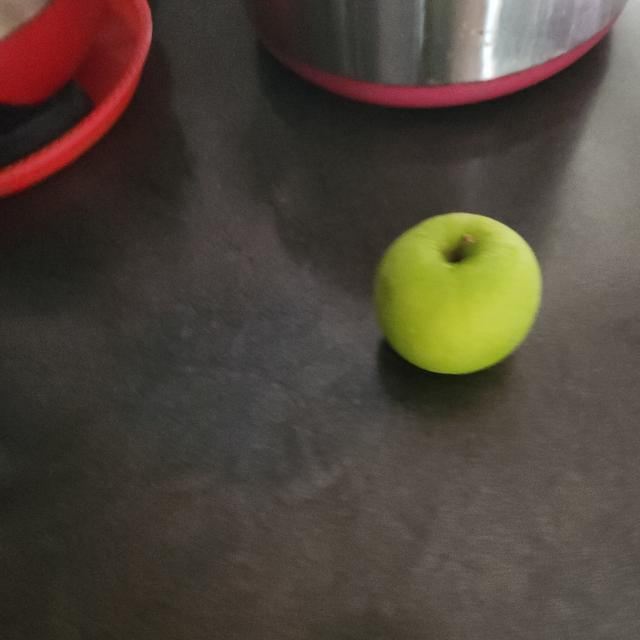apple: (370, 210, 546, 383)
